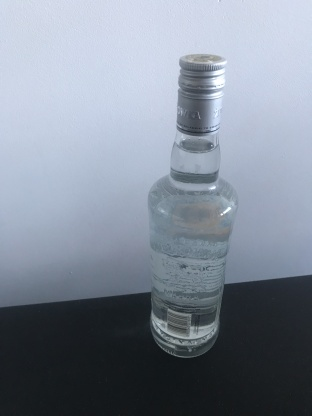nakretka: (175, 51, 229, 137)
